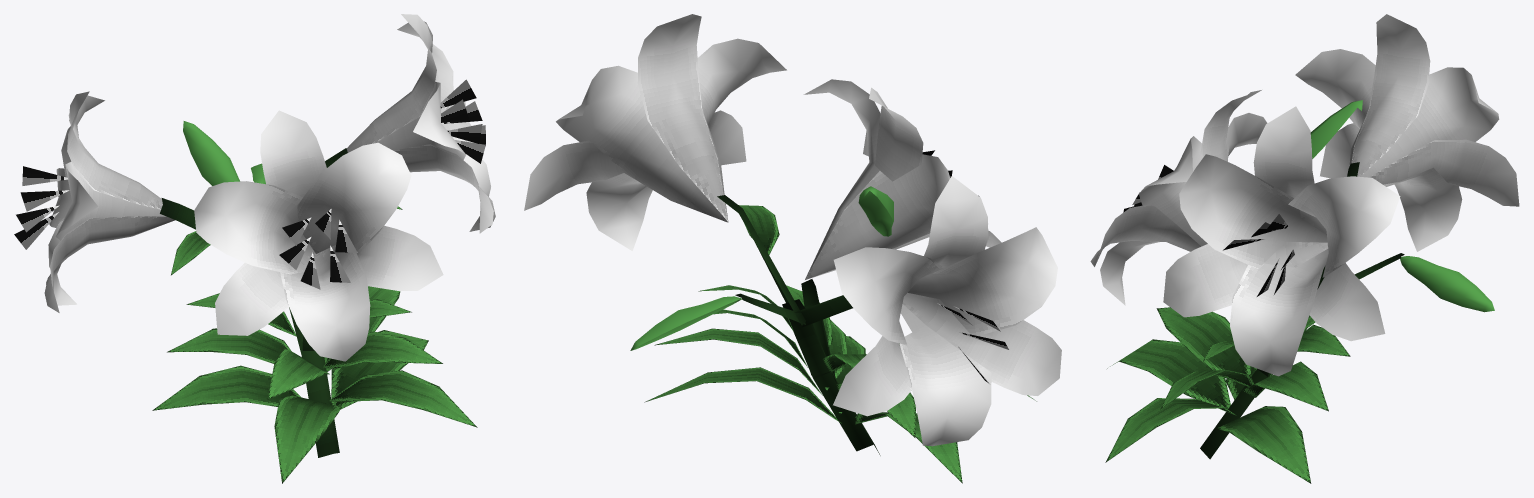
Rendered from flower-lily.glb.
3 renders of one model, left to right at view 1: azimuth 30°, elevation 25°; view 2: azimuth 150°, elevation 25°; view 3: azimuth 270°, elevation 25°, orthographic. The views are drawn at different scales.
Parts seen in each view (by area): view 1: PltFlwYuri__PltFlwYuri2_node2, PltFlwYuri__PltFlwYuri2_node1; view 2: PltFlwYuri__PltFlwYuri2_node2, PltFlwYuri__PltFlwYuri2_node1; view 3: PltFlwYuri__PltFlwYuri2_node2, PltFlwYuri__PltFlwYuri2_node1.
Part boxes in pixels (left/top/right/bottom): PltFlwYuri__PltFlwYuri2_node2: left=14, top=14, right=495, bottom=361; PltFlwYuri__PltFlwYuri2_node1: left=152, top=121, right=477, bottom=483; PltFlwYuri__PltFlwYuri2_node2: left=524, top=14, right=1061, bottom=446; PltFlwYuri__PltFlwYuri2_node1: left=630, top=186, right=1036, bottom=483; PltFlwYuri__PltFlwYuri2_node2: left=1090, top=14, right=1519, bottom=376; PltFlwYuri__PltFlwYuri2_node1: left=1105, top=100, right=1494, bottom=483.
Bounding box in the file's own units: 0.948 × 0.7921 × 0.7589.
Materials: 2 (2 with a texture image).
